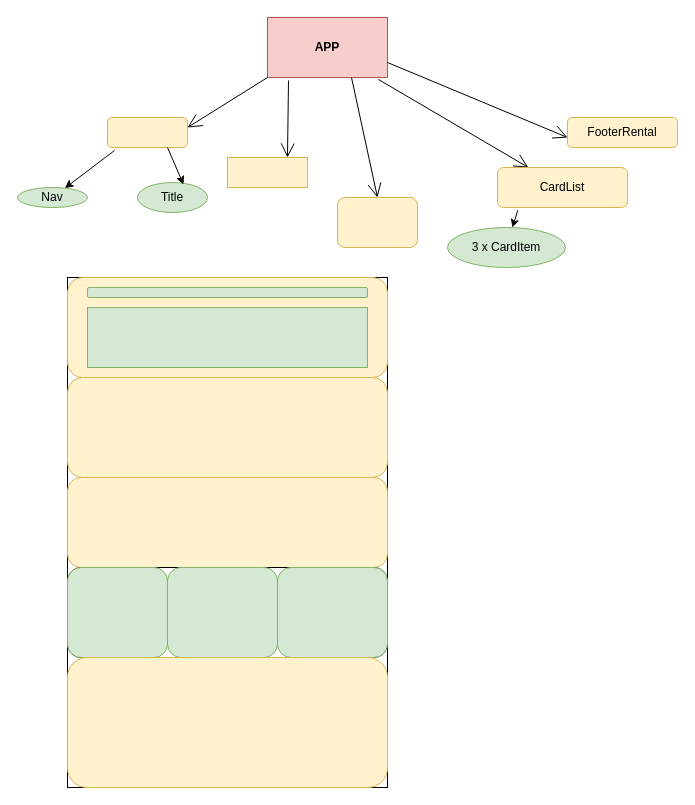
Image size: 695x805. Some labels were removed from this diagram. Each missing label, with the centre of its shape:
"About" belongs at pixel 267 172.
"Header" belongs at pixel 147 132.
"TextSection" belongs at pixel 377 222.
